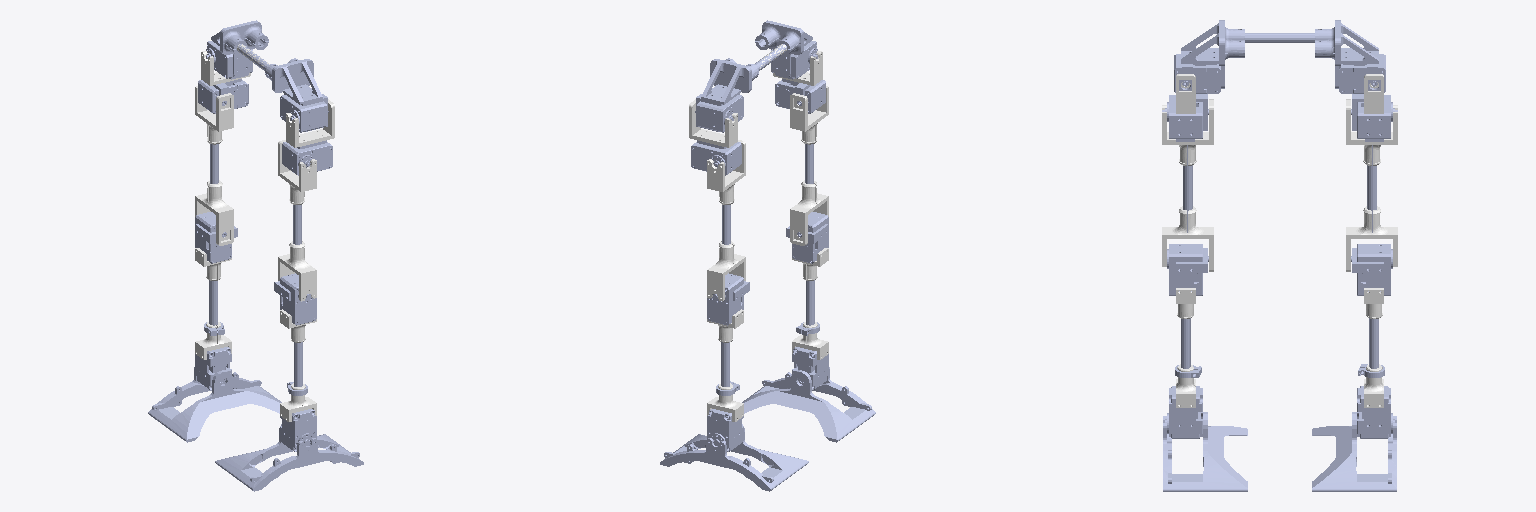
--- What the picture shows (computed from the rendered views, not written in the file) ---
3 views of the same robot in one strip: view 1: azimuth 30°, elevation 25°; view 2: azimuth 150°, elevation 25°; view 3: azimuth 270°, elevation 25° (orthographic).
Model biped_v4 with 47 links and 46 joints (9 revolute, 37 fixed), rooted at world, posed all joints at 0.
Visible links, largest first — view 1: revolute_rightfoot, revolute_leftfoot, fix_leftlegtobaselink, fix_rightlegtobaselink, fix_right_femur2_2, fix_left_femur2_2, revolute_left_femur2_1, revolute_right_femur2_1, revolute_left_knee, fix_leftfemur1_2, fix_lefttibia_1, fix_lefthip1towaist (+8 smaller); view 2: revolute_leftfoot, revolute_rightfoot, fix_leftlegtobaselink, fix_rightlegtobaselink, fix_left_femur2_2, revolute_left_femur2_1, fix_right_femur2_2, revolute_right_femur2_1, revolute_right_knee, fix_right_femer1_2, fix_righttibia_1, fix_righthip1towaist (+8 smaller); view 3: revolute_leftfoot, revolute_rightfoot, fix_leftlegtobaselink, fix_rightlegtobaselink, fix_lefttibia_1, fix_righttibia_1, revolute_left_knee, revolute_right_knee, fix_left_femur2_2, fix_right_femur2_2, fix_leftfemur1_2, fix_right_femer1_2 (+10 smaller).
Boxes of the visible links, <box> form: revolute_rightfoot: <box>148,367,281,442</box>; revolute_leftfoot: <box>215,424,363,491</box>; fix_leftlegtobaselink: <box>237,44,322,104</box>; fix_rightlegtobaselink: <box>211,20,268,77</box>; fix_right_femur2_2: <box>195,180,233,245</box>; fix_left_femur2_2: <box>278,241,316,301</box>; revolute_left_femur2_1: <box>237,44,316,204</box>; revolute_right_femur2_1: <box>195,86,233,144</box>; revolute_left_knee: <box>280,273,316,325</box>; fix_leftfemur1_2: <box>282,142,332,175</box>; fix_lefttibia_1: <box>280,409,316,451</box>; fix_lefthip1towaist: <box>280,95,326,132</box>; revolute_leftfoot: <box>742,367,875,442</box>; revolute_rightfoot: <box>660,424,808,491</box>; fix_leftlegtobaselink: <box>754,20,812,77</box>; fix_rightlegtobaselink: <box>701,58,758,104</box>; fix_left_femur2_2: <box>790,180,828,245</box>; revolute_left_femur2_1: <box>759,44,828,144</box>; fix_right_femur2_2: <box>707,241,745,301</box>; revolute_right_femur2_1: <box>707,140,745,204</box>; revolute_right_knee: <box>707,273,743,325</box>; fix_right_femer1_2: <box>691,142,741,175</box>; fix_righttibia_1: <box>707,409,743,451</box>; fix_righthip1towaist: <box>697,95,743,132</box>; revolute_leftfoot: <box>1163,412,1247,491</box>; revolute_rightfoot: <box>1312,412,1396,491</box>; fix_leftlegtobaselink: <box>1181,20,1314,88</box>; fix_rightlegtobaselink: <box>1315,20,1378,88</box>; fix_lefttibia_1: <box>1165,386,1202,438</box>; fix_righttibia_1: <box>1357,386,1394,438</box>; revolute_left_knee: <box>1167,244,1202,295</box>; revolute_right_knee: <box>1357,244,1392,295</box>; fix_left_femur2_2: <box>1162,206,1213,271</box>; fix_right_femur2_2: <box>1346,206,1397,271</box>; fix_leftfemur1_2: <box>1162,95,1202,138</box>; fix_right_femer1_2: <box>1357,95,1397,138</box>.
Bounding box of the posed robot: 0.143 × 0.2365 × 0.4831 m (x, y, z).
36 mesh visuals loaded from 46 distinct referenced files (36 binary STL); not drawn: 10 (reference not matched to a file when rendering).

robot.urdf — biped_v4:
<?xml version="1.0" ?>
<!-- =================================================================================== -->
<!-- |    This document was autogenerated by xacro from /ros2_ws/src/robot_bringup/urdf/biped_v4.urdf.xacro | -->
<!-- |    EDITING THIS FILE BY HAND IS NOT RECOMMENDED                                 | -->
<!-- =================================================================================== -->
<robot name="biped_v4">
  <!-- WORLD -->
  <link name="world"/>
  <!-- BASE LINK -->
  <joint name="base_joint" type="fixed">
    <parent link="world"/>
    <child link="base_link"/>
    <origin rpy="0 0 0" xyz="0.0 0.0 1.0"/>
  </joint>
  <link name="base_link">
    <inertial>
      <origin rpy="0 0 0" xyz="-1.1257E-18 1.209E-17 0.0040839"/>
      <mass value="0.018"/>
      <inertia ixx="8.1069E-06" ixy="3.6409E-21" ixz="-1.5116E-21" iyy="8.5785E-06" iyz="1.6877E-21" izz="1.6342E-05"/>
    </inertial>
    <visual>
      <origin rpy="0 0 0" xyz="0 0 0"/>
      <geometry>
        <mesh filename="meshes/base_link.STL"/>
      </geometry>
      <material name="">
        <color rgba="0.79216 0.81961 0.93333 1"/>
      </material>
    </visual>
    <collision>
      <origin rpy="0 0 0" xyz="0 0 0"/>
      <geometry>
        <mesh filename="meshes/base_link.STL"/>
      </geometry>
    </collision>
  </link>
  <link name="fix_leftlegtobaselink">
    <inertial>
      <origin rpy="0 0 0" xyz="3.1196E-09 -0.059316 0.0042205"/>
      <mass value="0.028"/>
      <inertia ixx="8.1588E-06" ixy="-1.3085E-13" ixz="-4.33E-11" iyy="7.7241E-06" iyz="-9.9424E-07" izz="8.6259E-06"/>
    </inertial>
    <visual>
      <origin rpy="0 0 0" xyz="0 0 0"/>
      <geometry>
        <mesh filename="meshes/fix_leftlegtobaselink.STL"/>
      </geometry>
      <material name="">
        <color rgba="0.79216 0.81961 0.93333 1"/>
      </material>
    </visual>
    <collision>
      <origin rpy="0 0 0" xyz="0 0 0"/>
      <geometry>
        <mesh filename="meshes/fix_leftlegtobaselink.STL"/>
      </geometry>
    </collision>
  </link>
  <joint name="leftlegtobaselink" type="fixed">
    <origin rpy="0 0 0" xyz="0 0 0"/>
    <parent link="base_link"/>
    <child link="fix_leftlegtobaselink"/>
    <axis xyz="0 0 0"/>
  </joint>
  <link name="fix_lefthip1towaist">
    <inertial>
      <origin rpy="0 0 0" xyz="-0.00081105 -0.082311 -0.024125"/>
      <mass value="0.08"/>
      <inertia ixx="1.0361E-05" ixy="-2.2331E-07" ixz="-2.3381E-17" iyy="6.7254E-06" iyz="-2.8598E-14" izz="1.1542E-05"/>
    </inertial>
    <visual>
      <origin rpy="0 0 0" xyz="0 0 0"/>
      <geometry>
        <mesh filename="meshes/fix_lefthip1towaist.STL"/>
      </geometry>
      <material name="">
        <color rgba="0.79216 0.81961 0.93333 1"/>
      </material>
    </visual>
    <collision>
      <origin rpy="0 0 0" xyz="0 0 0"/>
      <geometry>
        <mesh filename="meshes/fix_lefthip1towaist.STL"/>
      </geometry>
    </collision>
  </link>
  <joint name="lefthip1towaist" type="fixed">
    <origin rpy="0 0 0" xyz="0 0 0"/>
    <parent link="fix_leftlegtobaselink"/>
    <child link="fix_lefthip1towaist"/>
    <axis xyz="0 0 0"/>
  </joint>
  <link name="revolute_left_femur1_1">
    <inertial>
      <origin rpy="0 0 0" xyz="0.019235 -1.3878E-17 0.026145"/>
      <mass value="0.016"/>
      <inertia ixx="4.4847E-06" ixy="-3.2515E-22" ixz="2.5399E-07" iyy="5.4156E-06" iyz="6.6534E-22" izz="1.6499E-06"/>
    </inertial>
    <visual>
      <origin rpy="0 0 0" xyz="0 0 0"/>
      <geometry>
        <mesh filename="meshes/revolute_left_femur1_1.STL"/>
      </geometry>
      <material name="">
        <color rgba="1 1 1 1"/>
      </material>
    </visual>
    <collision>
      <origin rpy="0 0 0" xyz="0 0 0"/>
      <geometry>
        <mesh filename="meshes/revolute_left_femur1_1.STL"/>
      </geometry>
    </collision>
  </link>
  <joint name="left_hip1" type="revolute">
    <origin rpy="0 1.5707963267949 0" xyz="-0.0234 -0.09425 -0.024125"/>
    <parent link="fix_lefthip1towaist"/>
    <child link="revolute_left_femur1_1"/>
    <axis xyz="0 0 -1"/>
    <limit effort="1.5" lower="0" upper="0.3" velocity="2"/>
  </joint>
  <link name="fix_leftfemur1_2">
    <inertial>
      <origin rpy="0 0 0" xyz="0.048875 -0.00081105 0.021339"/>
      <mass value="0.08"/>
      <inertia ixx="1.1542E-05" ixy="-2.3396E-17" ixz="-2.8598E-14" iyy="1.0361E-05" iyz="-2.2331E-07" izz="6.7254E-06"/>
    </inertial>
    <visual>
      <origin rpy="0 0 0" xyz="0 0 0"/>
      <geometry>
        <mesh filename="meshes/fix_leftfemur1_2.STL"/>
      </geometry>
      <material name="">
        <color rgba="0.79216 0.81961 0.93333 1"/>
      </material>
    </visual>
    <collision>
      <origin rpy="0 0 0" xyz="0 0 0"/>
      <geometry>
        <mesh filename="meshes/fix_leftfemur1_2.STL"/>
      </geometry>
    </collision>
  </link>
  <joint name="leftfemur1_2" type="fixed">
    <origin rpy="0 0 0" xyz="0 0 0"/>
    <parent link="revolute_left_femur1_1"/>
    <child link="fix_leftfemur1_2"/>
    <axis xyz="0 0 0"/>
  </joint>
  <link name="revolute_left_femur2_1">
    <inertial>
      <origin rpy="0 0 0" xyz="-1.5434E-11 -0.024976 -0.025952"/>
      <mass value="0.016"/>
      <inertia ixx="7.0717E-06" ixy="-1.5333E-15" ixz="2.8537E-12" iyy="4.694E-06" iyz="2.9746E-07" izz="3.2637E-06"/>
    </inertial>
    <visual>
      <origin rpy="0 0 0" xyz="0 0 0"/>
      <geometry>
        <mesh filename="meshes/revolute_left_femur2_1.STL"/>
      </geometry>
      <material name="">
        <color rgba="1 1 1 1"/>
      </material>
    </visual>
    <collision>
      <origin rpy="0 0 0" xyz="0 0 0"/>
      <geometry>
        <mesh filename="meshes/revolute_left_femur2_1.STL"/>
      </geometry>
    </collision>
  </link>
  <joint name="left_hip2" type="revolute">
    <origin rpy="1.5707963267949 -1.5707963267949 0" xyz="0.048875 -0.0234 0.00939999999999994"/>
    <parent link="fix_leftfemur1_2"/>
    <child link="revolute_left_femur2_1"/>
    <axis xyz="0 0 1"/>
    <limit effort="1.5" lower="-1.732" upper="1.732" velocity="2"/>
  </joint>
  <link name="fix_left_femur2_2">
    <inertial>
      <origin rpy="0 0 0" xyz="1.5434E-11 -0.13702 -0.025952"/>
      <mass value="0.016"/>
      <inertia ixx="7.0717E-06" ixy="-1.5333E-15" ixz="-2.8537E-12" iyy="4.694E-06" iyz="-2.9746E-07" izz="3.2637E-06"/>
    </inertial>
    <visual>
      <origin rpy="0 0 0" xyz="0 0 0"/>
      <geometry>
        <mesh filename="meshes/fix_left_femur2_2.STL"/>
      </geometry>
      <material name="">
        <color rgba="1 1 1 1"/>
      </material>
    </visual>
    <collision>
      <origin rpy="0 0 0" xyz="0 0 0"/>
      <geometry>
        <mesh filename="meshes/fix_left_femur2_2.STL"/>
      </geometry>
    </collision>
  </link>
  <joint name="left_femur2_2" type="fixed">
    <origin rpy="0 0 0" xyz="0 0 0"/>
    <parent link="revolute_left_femur2_1"/>
    <child link="fix_left_femur2_2"/>
    <axis xyz="0 0 0"/>
  </joint>
  <link name="revolute_left_knee">
    <inertial>
      <origin rpy="0 0 0" xyz="6.9714E-13 -0.011939 0.022589"/>
      <mass value="0.08"/>
      <inertia ixx="1.1542E-05" ixy="2.8598E-14" ixz="-2.338E-17" iyy="6.7254E-06" iyz="2.2331E-07" izz="1.0361E-05"/>
    </inertial>
    <visual>
      <origin rpy="0 0 0" xyz="0 0 0"/>
      <geometry>
        <mesh filename="meshes/revolute_left_knee.STL"/>
      </geometry>
      <material name="">
        <color rgba="0.79216 0.81961 0.93333 1"/>
      </material>
    </visual>
    <collision>
      <origin rpy="0 0 0" xyz="0 0 0"/>
      <geometry>
        <mesh filename="meshes/revolute_left_knee.STL"/>
      </geometry>
    </collision>
  </link>
  <joint name="left_knee" type="revolute">
    <origin rpy="-3.14159265358979 0 -3.14159265358979" xyz="0 -0.162 0"/>
    <parent link="fix_left_femur2_2"/>
    <child link="revolute_left_knee"/>
    <axis xyz="0 0 1"/>
    <limit effort="1.5" lower="-2" upper="2" velocity="2"/>
  </joint>
  <link name="fix_lefttibia_1">
    <inertial>
      <origin rpy="0 0 0" xyz="-8.9841E-06 -0.16908 0.022299"/>
      <mass value="0.04"/>
      <inertia ixx="1.096E-05" ixy="-4.4082E-09" ixz="-5.2455E-09" iyy="6.3088E-06" iyz="-2.5553E-07" izz="9.8712E-06"/>
    </inertial>
    <visual>
      <origin rpy="0 0 0" xyz="0 0 0"/>
      <geometry>
        <mesh filename="meshes/fix_lefttibia_1.STL"/>
      </geometry>
      <material name="">
        <color rgba="0.79216 0.81961 0.93333 1"/>
      </material>
    </visual>
    <collision>
      <origin rpy="0 0 0" xyz="0 0 0"/>
      <geometry>
        <mesh filename="meshes/fix_lefttibia_1.STL"/>
      </geometry>
    </collision>
  </link>
  <joint name="lefttibia_1" type="fixed">
    <origin rpy="0 0 0" xyz="0 0 0"/>
    <parent link="revolute_left_knee"/>
    <child link="fix_lefttibia_1"/>
    <axis xyz="0 0 0"/>
  </joint>
  <link name="revolute_leftfoot">
    <inertial>
      <origin rpy="0 0 0" xyz="-0.028804 -1.6064E-07 0.033846"/>
      <mass value="0.05"/>
      <inertia ixx="0.00015493" ixy="-5.5007E-11" ixz="3.0716E-06" iyy="3.7481E-05" iyz="6.021E-11" izz="0.00012863"/>
    </inertial>
    <visual>
      <origin rpy="0 0 0" xyz="0 0 0"/>
      <geometry>
        <mesh filename="meshes/revolute_leftfoot.STL"/>
      </geometry>
      <material name="">
        <color rgba="0.79216 0.81961 0.93333 1"/>
      </material>
    </visual>
    <collision>
      <origin rpy="0 0 0" xyz="0 0 0"/>
      <geometry>
        <mesh filename="meshes/revolute_leftfoot.STL"/>
      </geometry>
    </collision>
  </link>
  <joint name="left_ankle" type="revolute">
    <origin rpy="0 0 1.57079632679489" xyz="0 -0.181000000000001 0.00250000000000145"/>
    <parent link="fix_lefttibia_1"/>
    <child link="revolute_leftfoot"/>
    <axis xyz="0 0 -1"/>
    <limit effort="1" lower="-1.732" upper="1.732" velocity="2"/>
  </joint>
  <link name="fix_lefttibia_2">
    <inertial>
      <origin rpy="0 0 0" xyz="3.7002E-15 -0.13991 0.0234"/>
      <mass value="0.01"/>
      <inertia ixx="8.4456E-07" ixy="-7.3769E-20" ixz="1.598E-13" iyy="1.1166E-06" iyz="9.6352E-20" izz="1.4884E-06"/>
    </inertial>
    <visual>
      <origin rpy="0 0 0" xyz="0 0 0"/>
      <geometry>
        <mesh filename="meshes/fix_lefttibia_2.STL"/>
      </geometry>
      <material name="">
        <color rgba="1 1 1 1"/>
      </material>
    </visual>
    <collision>
      <origin rpy="0 0 0" xyz="0 0 0"/>
      <geometry>
        <mesh filename="meshes/fix_lefttibia_2.STL"/>
      </geometry>
    </collision>
  </link>
  <joint name="lefttibia_2" type="fixed">
    <origin rpy="0 0 0" xyz="0 0 0"/>
    <parent link="revolute_left_knee"/>
    <child link="fix_lefttibia_2"/>
    <axis xyz="0 0 0"/>
  </joint>
  <link name="fix_lefttibia_3">
    <inertial>
      <origin rpy="0 0 0" xyz="-0.00077912 -0.1234 0.026003"/>
      <mass value="0.0008"/>
      <inertia ixx="8.7805E-08" ixy="7.215E-23" ixz="8.4902E-09" iyy="1.4099E-07" iyz="-1.6657E-22" izz="6.0985E-08"/>
    </inertial>
    <visual>
      <origin rpy="0 0 0" xyz="0 0 0"/>
      <geometry>
        <mesh filename="meshes/fix_lefttibia_3.STL"/>
      </geometry>
      <material name="">
        <color rgba="0.79216 0.81961 0.93333 1"/>
      </material>
    </visual>
    <collision>
      <origin rpy="0 0 0" xyz="0 0 0"/>
      <geometry>
        <mesh filename="meshes/fix_lefttibia_3.STL"/>
      </geometry>
    </collision>
  </link>
  <joint name="lefttibia_3" type="fixed">
    <origin rpy="0 0 0" xyz="0 0 0"/>
    <parent link="revolute_left_knee"/>
    <child link="fix_lefttibia_3"/>
    <axis xyz="0 0 0"/>
  </joint>
  <link name="fix_lefttibia_4">
    <inertial>
      <origin rpy="0 0 0" xyz="-3.6429E-17 -0.0905 0.0234"/>
      <mass value="0.007"/>
      <inertia ixx="2.3852E-06" ixy="-1.1607E-21" ixz="1.9172E-24" iyy="5.7962E-08" iyz="1.2953E-21" izz="2.3852E-06"/>
    </inertial>
    <visual>
      <origin rpy="0 0 0" xyz="0 0 0"/>
      <geometry>
        <mesh filename="meshes/fix_lefttibia_4.STL"/>
      </geometry>
      <material name="">
        <color rgba="0.79216 0.81961 0.93333 1"/>
      </material>
    </visual>
    <collision>
      <origin rpy="0 0 0" xyz="0 0 0"/>
      <geometry>
        <mesh filename="meshes/fix_lefttibia_4.STL"/>
      </geometry>
    </collision>
  </link>
  <joint name="lefttibia_4" type="fixed">
    <origin rpy="0 0 0" xyz="0 0 0"/>
    <parent link="revolute_left_knee"/>
    <child link="fix_lefttibia_4"/>
    <axis xyz="0 0 0"/>
  </joint>
  <link name="fix_lefttibia_5">
    <inertial>
      <origin rpy="0 0 0" xyz="3.8181E-15 -0.04109 0.0234"/>
      <mass value="0.01"/>
      <inertia ixx="8.4456E-07" ixy="7.5351E-20" ixz="-1.598E-13" iyy="1.1166E-06" iyz="9.6295E-20" izz="1.4884E-06"/>
    </inertial>
    <visual>
      <origin rpy="0 0 0" xyz="0 0 0"/>
      <geometry>
        <mesh filename="meshes/fix_lefttibia_5.STL"/>
      </geometry>
      <material name="">
        <color rgba="1 1 1 1"/>
      </material>
    </visual>
    <collision>
      <origin rpy="0 0 0" xyz="0 0 0"/>
      <geometry>
        <mesh filename="meshes/fix_lefttibia_5.STL"/>
      </geometry>
    </collision>
  </link>
  <joint name="lefttibia_5" type="fixed">
    <origin rpy="0 0 0" xyz="0 0 0"/>
    <parent link="revolute_left_knee"/>
    <child link="fix_lefttibia_5"/>
    <axis xyz="0 0 0"/>
  </joint>
  <link name="fix_lefttibia_6">
    <inertial>
      <origin rpy="0 0 0" xyz="1.2143E-17 -0.00179 0.035364"/>
      <mass value="0.004"/>
      <inertia ixx="4.093E-07" ixy="2.5838E-23" ixz="2.8347E-22" iyy="1.0855E-06" iyz="1.343E-09" izz="7.5439E-07"/>
    </inertial>
    <visual>
      <origin rpy="0 0 0" xyz="0 0 0"/>
      <geometry>
        <mesh filename="meshes/fix_lefttibia_6.STL"/>
      </geometry>
      <material name="">
        <color rgba="0.79216 0.81961 0.93333 1"/>
      </material>
    </visual>
    <collision>
      <origin rpy="0 0 0" xyz="0 0 0"/>
      <geometry>
        <mesh filename="meshes/fix_lefttibia_6.STL"/>
      </geometry>
    </collision>
  </link>
  <joint name="lefttibia_6" type="fixed">
    <origin rpy="0 0 0" xyz="0 0 0"/>
    <parent link="revolute_left_knee"/>
    <child link="fix_lefttibia_6"/>
    <axis xyz="0 0 0"/>
  </joint>
  <link name="fix_left_femur2_3">
    <inertial>
      <origin rpy="0 0 0" xyz="2.5327E-16 -0.081 -0.0254"/>
      <mass value="0.007"/>
      <inertia ixx="2.3852E-06" ixy="3.2772E-21" ixz="6.7208E-24" iyy="5.7962E-08" iyz="-3.8231E-22" izz="2.3852E-06"/>
    </inertial>
    <visual>
      <origin rpy="0 0 0" xyz="0 0 0"/>
      <geometry>
        <mesh filename="meshes/fix_left_femur2_3.STL"/>
      </geometry>
      <material name="">
        <color rgba="0.79216 0.81961 0.93333 1"/>
      </material>
    </visual>
    <collision>
      <origin rpy="0 0 0" xyz="0 0 0"/>
      <geometry>
        <mesh filename="meshes/fix_left_femur2_3.STL"/>
      </geometry>
    </collision>
  </link>
  <joint name="left_femur2_3" type="fixed">
    <origin rpy="0 0 0" xyz="0 0 0"/>
    <parent link="revolute_left_femur2_1"/>
    <child link="fix_left_femur2_3"/>
    <axis xyz="0 0 0"/>
  </joint>
  <link name="fix_femur1_3">
    <inertial>
      <origin rpy="0 0 0" xyz="0.048875 0.0066861 0.018792"/>
      <mass value="0.008"/>
      <inertia ixx="1.446E-06" ixy="-2.2903E-22" ixz="6.4287E-22" iyy="2.2684E-06" iyz="3.6652E-07" izz="2.2752E-06"/>
    </inertial>
    <visual>
      <origin rpy="0 0 0" xyz="0 0 0"/>
      <geometry>
        <mesh filename="meshes/fix_femur1_3.STL"/>
      </geometry>
      <material name="">
        <color rgba="0.79216 0.81961 0.93333 1"/>
      </material>
    </visual>
    <collision>
      <origin rpy="0 0 0" xyz="0 0 0"/>
      <geometry>
        <mesh filename="meshes/fix_femur1_3.STL"/>
      </geometry>
    </collision>
  </link>
  <joint name="femur1_3" type="fixed">
    <origin rpy="0 0 0" xyz="0 0 0"/>
    <parent link="revolute_left_femur1_1"/>
    <child link="fix_femur1_3"/>
    <axis xyz="0 0 0"/>
  </joint>
  <link name="fix_femur1_4">
    <inertial>
      <origin rpy="0 0 0" xyz="-2.0817E-17 -9.7145E-17 0.0494"/>
      <mass value="0.0003"/>
      <inertia ixx="7.2605E-09" ixy="-4.1175E-24" ixz="-5.5707E-25" iyy="7.2605E-09" iyz="-7.9711E-25" izz="1.3645E-08"/>
    </inertial>
    <visual>
      <origin rpy="0 0 0" xyz="0 0 0"/>
      <geometry>
        <mesh filename="meshes/fix_femur1_4.STL"/>
      </geometry>
      <material name="">
        <color rgba="0.79216 0.81961 0.93333 1"/>
      </material>
    </visual>
    <collision>
      <origin rpy="0 0 0" xyz="0 0 0"/>
      <geometry>
        <mesh filename="meshes/fix_femur1_4.STL"/>
      </geometry>
    </collision>
  </link>
  <joint name="femur1_4" type="fixed">
    <origin rpy="0 0 0" xyz="0 0 0"/>
    <parent link="revolute_left_femur1_1"/>
    <child link="fix_femur1_4"/>
    <axis xyz="0 0 0"/>
  </joint>
  <link name="fix_lefthip1motorbody">
    <inertial>
      <origin rpy="0 0 0" xyz="1.0408E-17 0.0093922 0.030086"/>
      <mass value="0.008"/>
      <inertia ixx="1.446E-06" ixy="-4.6045E-22" ixz="5.3961E-23" iyy="2.2752E-06" iyz="3.6652E-07" izz="2.2684E-06"/>
    </inertial>
    <visual>
      <origin rpy="0 0 0" xyz="0 0 0"/>
      <geometry>
        <mesh filename="meshes/fix_lefthip1motorbody.STL"/>
      </geometry>
      <material name="">
        <color rgba="0.79216 0.81961 0.93333 1"/>
      </material>
    </visual>
    <collision>
      <origin rpy="0 0 0" xyz="0 0 0"/>
      <geometry>
        <mesh filename="meshes/fix_lefthip1motorbody.STL"/>
      </geometry>
    </collision>
  </link>
  <joint name="lefthip1motorbody" type="fixed">
    <origin rpy="0 1.5707963267949 0" xyz="-0.0234 -0.09425 -0.024125"/>
    <parent link="fix_leftlegtobaselink"/>
    <child link="fix_lefthip1motorbody"/>
    <axis xyz="0 0 0"/>
  </joint>
  <link name="fix_rightlegtobaselink">
    <inertial>
      <origin rpy="0 0 0" xyz="-3.1196E-09 0.059316 0.0042205"/>
      <mass value="0.028"/>
      <inertia ixx="8.1588E-06" ixy="-1.3085E-13" ixz="4.33E-11" iyy="7.7241E-06" iyz="9.9424E-07" izz="8.6259E-06"/>
    </inertial>
    <visual>
      <origin rpy="0 0 0" xyz="0 0 0"/>
      <geometry>
        <mesh filename="meshes/fix_rightlegtobaselink.STL"/>
      </geometry>
      <material name="">
        <color rgba="0.79216 0.81961 0.93333 1"/>
      </material>
    </visual>
    <collision>
      <origin rpy="0 0 0" xyz="0 0 0"/>
      <geometry>
        <mesh filename="meshes/fix_rightlegtobaselink.STL"/>
      </geometry>
    </collision>
  </link>
  <joint name="rightlegtobaselink" type="fixed">
    <origin rpy="0 0 0" xyz="0 0 0"/>
    <parent link="base_link"/>
    <child link="fix_rightlegtobaselink"/>
    <axis xyz="0 0 0"/>
  </joint>
  <link name="fix_righthip1towaist">
    <inertial>
      <origin rpy="0 0 0" xyz="-0.00081105 0.082311 -0.024125"/>
      <mass value="0.08"/>
      <inertia ixx="1.0361E-05" ixy="2.2331E-07" ixz="2.3379E-17" iyy="6.7254E-06" iyz="-2.8598E-14" izz="1.1542E-05"/>
    </inertial>
    <visual>
      <origin rpy="0 0 0" xyz="0 0 0"/>
      <geometry>
        <mesh filename="meshes/fix_righthip1towaist.STL"/>
      </geometry>
      <material name="">
        <color rgba="0.79216 0.81961 0.93333 1"/>
      </material>
    </visual>
    <collision>
      <origin rpy="0 0 0" xyz="0 0 0"/>
      <geometry>
        <mesh filename="meshes/fix_righthip1towaist.STL"/>
      </geometry>
    </collision>
  </link>
  <joint name="righthip1towaist" type="fixed">
    <origin rpy="0 0 0" xyz="0 0 0"/>
    <parent link="fix_rightlegtobaselink"/>
    <child link="fix_righthip1towaist"/>
    <axis xyz="0 0 0"/>
  </joint>
  <link name="revolute_rightfemer1_1">
    <inertial>
      <origin rpy="0 0 0" xyz="-1.3878E-17 -0.019235 0.026145"/>
      <mass value="0.016"/>
      <inertia ixx="5.4156E-06" ixy="-6.7112E-24" ixz="4.1894E-23" iyy="4.4847E-06" iyz="-2.5399E-07" izz="1.6499E-06"/>
    </inertial>
    <visual>
      <origin rpy="0 0 0" xyz="0 0 0"/>
      <geometry>
        <mesh filename="meshes/revolute_rightfemer1_1.STL"/>
      </geometry>
      <material name="">
        <color rgba="1 1 1 1"/>
      </material>
    </visual>
    <collision>
      <origin rpy="0 0 0" xyz="0 0 0"/>
      <geometry>
        <mesh filename="meshes/revolute_rightfemer1_1.STL"/>
      </geometry>
    </collision>
  </link>
  <joint name="right_hip1" type="revolute">
    <origin rpy="1.5707963267949 0 1.5707963267949" xyz="-0.0234 0.09425 -0.024125"/>
    <parent link="fix_righthip1towaist"/>
    <child link="revolute_rightfemer1_1"/>
    <axis xyz="0 0 -1"/>
    <limit effort="1.5" lower="-0.3" upper="0" velocity="2"/>
  </joint>
  <link name="fix_right_femer1_2">
    <inertial>
      <origin rpy="0 0 0" xyz="0.00081105 -0.048875 0.021339"/>
      <mass value="0.08"/>
      <inertia ixx="1.0361E-05" ixy="2.3366E-17" ixz="2.2331E-07" iyy="1.1542E-05" iyz="-2.8598E-14" izz="6.7254E-06"/>
    </inertial>
    <visual>
      <origin rpy="0 0 0" xyz="0 0 0"/>
      <geometry>
        <mesh filename="meshes/fix_right_femer1_2.STL"/>
      </geometry>
      <material name="">
        <color rgba="0.79216 0.81961 0.93333 1"/>
      </material>
    </visual>
    <collision>
      <origin rpy="0 0 0" xyz="0 0 0"/>
      <geometry>
        <mesh filename="meshes/fix_right_femer1_2.STL"/>
      </geometry>
    </collision>
  </link>
  <joint name="rightfemer1_2" type="fixed">
    <origin rpy="0 0 0" xyz="0 0 0"/>
    <parent link="revolute_rightfemer1_1"/>
    <child link="fix_right_femer1_2"/>
    <axis xyz="0 0 0"/>
  </joint>
  <link name="revolute_right_femur2_1">
    <inertial>
      <origin rpy="0 0 0" xyz="-1.5434E-11 -0.024976 -0.025952"/>
      <mass value="0.016"/>
      <inertia ixx="7.0717E-06" ixy="-1.5333E-15" ixz="2.8537E-12" iyy="4.694E-06" iyz="2.9746E-07" izz="3.2637E-06"/>
    </inertial>
    <visual>
      <origin rpy="0 0 0" xyz="0 0 0"/>
      <geometry>
        <mesh filename="meshes/revolute_right_femur2_1.STL"/>
      </geometry>
      <material name="">
        <color rgba="1 1 1 1"/>
      </material>
    </visual>
    <collision>
      <origin rpy="0 0 0" xyz="0 0 0"/>
      <geometry>
        <mesh filename="meshes/revolute_right_femur2_1.STL"/>
      </geometry>
    </collision>
  </link>
  <joint name="right_hip2" type="revolute">
    <origin rpy="0 1.5707963267949 0" xyz="0.0233999999999999 -0.048875 0.00940000000000001"/>
    <parent link="fix_right_femer1_2"/>
    <child link="revolute_right_femur2_1"/>
    <axis xyz="0 0 -1"/>
    <limit effort="1.5" lower="-1.732" upper="1.732" velocity="2"/>
  </joint>
  <link name="fix_right_femur2_2">
    <inertial>
      <origin rpy="0 0 0" xyz="1.5435E-11 -0.13702 -0.025952"/>
      <mass value="0.016"/>
      <inertia ixx="7.0717E-06" ixy="-1.5333E-15" ixz="-2.8537E-12" iyy="4.694E-06" iyz="-2.9746E-07" izz="3.2637E-06"/>
    </inertial>
    <visual>
      <origin rpy="0 0 0" xyz="0 0 0"/>
      <geometry>
        <mesh filename="meshes/fix_right_femur2_2.STL"/>
      </geometry>
      <material name="">
        <color rgba="1 1 1 1"/>
      </material>
    </visual>
    <collision>
      <origin rpy="0 0 0" xyz="0 0 0"/>
      <geometry>
        <mesh filename="meshes/fix_right_femur2_2.STL"/>
      </geometry>
    </collision>
  </link>
  <joint name="right_femur2_2" type="fixed">
    <origin rpy="0 0 0" xyz="0 0 0"/>
    <parent link="revolute_right_femur2_1"/>
    <child link="fix_right_femur2_2"/>
    <axis xyz="0 0 0"/>
  </joint>
  <link name="revolute_right_knee">
    <inertial>
      <origin rpy="0 0 0" xyz="-6.9722E-13 -0.011939 -0.022589"/>
      <mass value="0.08"/>
      <inertia ixx="1.1542E-05" ixy="-2.8598E-14" ixz="-2.3381E-17" iyy="6.7254E-06" iyz="-2.2331E-07" izz="1.0361E-05"/>
    </inertial>
    <visual>
      <origin rpy="0 0 0" xyz="0 0 0"/>
      <geometry>
        <mesh filename="meshes/revolute_right_knee.STL"/>
      </geometry>
      <material name="">
        <color rgba="0.79216 0.81961 0.93333 1"/>
      </material>
    </visual>
    <collision>
      <origin rpy="0 0 0" xyz="0 0 0"/>
      <geometry>
        <mesh filename="meshes/revolute_right_knee.STL"/>
      </geometry>
    </collision>
  </link>
  <joint name="right_knee" type="revolute">
    <origin rpy="0 0 0" xyz="0 -0.162000000000005 0"/>
    <parent link="fix_right_femur2_2"/>
    <child link="revolute_right_knee"/>
    <axis xyz="0 0 -1"/>
    <limit effort="1.5" lower="-2" upper="2" velocity="2"/>
  </joint>
  <link name="fix_righttibia_1">
    <inertial>
      <origin rpy="0 0 0" xyz="8.9841E-06 -0.16908 -0.022299"/>
      <mass value="0.04"/>
      <inertia ixx="1.096E-05" ixy="4.4082E-09" ixz="-5.2455E-09" iyy="6.3088E-06" iyz="2.5553E-07" izz="9.8712E-06"/>
    </inertial>
    <visual>
      <origin rpy="0 0 0" xyz="0 0 0"/>
      <geometry>
        <mesh filename="meshes/fix_righttibia_1.STL"/>
      </geometry>
      <material name="">
        <color rgba="0.79216 0.81961 0.93333 1"/>
      </material>
    </visual>
    <collision>
      <origin rpy="0 0 0" xyz="0 0 0"/>
      <geometry>
        <mesh filename="meshes/fix_righttibia_1.STL"/>
      </geometry>
    </collision>
  </link>
  <joint name="righttibia_1" type="fixed">
    <origin rpy="0 0 0" xyz="0 0 0"/>
    <parent link="revolute_right_knee"/>
    <child link="fix_righttibia_1"/>
    <axis xyz="0 0 0"/>
  </joint>
  <link name="revolute_rightfoot">
    <inertial>
      <origin rpy="0 0 0" xyz="-1.6064E-07 -0.028804 -0.033846"/>
      <mass value="0.05"/>
      <inertia ixx="3.7481E-05" ixy="-5.5007E-11" ixz="-6.021E-11" iyy="0.00015493" iyz="-3.0716E-06" izz="0.00012863"/>
    </inertial>
    <visual>
      <origin rpy="0 0 0" xyz="0 0 0"/>
      <geometry>
        <mesh filename="meshes/revolute_rightfoot.STL"/>
      </geometry>
      <material name="">
        <color rgba="0.79216 0.81961 0.93333 1"/>
      </material>
    </visual>
    <collision>
      <origin rpy="0 0 0" xyz="0 0 0"/>
      <geometry>
        <mesh filename="meshes/revolute_rightfoot.STL"/>
      </geometry>
    </collision>
  </link>
  <joint name="right_ankle" type="revolute">
    <origin rpy="0 0 0" xyz="0 -0.181000000000001 -0.00250000000000579"/>
    <parent link="fix_righttibia_1"/>
    <child link="revolute_rightfoot"/>
    <axis xyz="0 0 -1"/>
    <limit effort="1" lower="-1.732" upper="1.732" velocity="2"/>
  </joint>
  <link name="fix_righttibia_2">
    <inertial>
      <origin rpy="0 0 0" xyz="-3.4573E-15 -0.13991 -0.0234"/>
      <mass value="0.01"/>
      <inertia ixx="8.4456E-07" ixy="7.5676E-20" ixz="1.598E-13" iyy="1.1166E-06" iyz="-9.714E-20" izz="1.4884E-06"/>
    </inertial>
    <visual>
      <origin rpy="0 0 0" xyz="0 0 0"/>
      <geometry>
        <mesh filename="meshes/fix_righttibia_2.STL"/>
      </geometry>
      <material name="">
        <color rgba="1 1 1 1"/>
      </material>
    </visual>
    <collision>
      <origin rpy="0 0 0" xyz="0 0 0"/>
      <geometry>
        <mesh filename="meshes/fix_righttibia_2.STL"/>
      </geometry>
    </collision>
  </link>
  <joint name="righttibia_2" type="fixed">
    <origin rpy="0 0 0" xyz="0 0 0"/>
    <parent link="revolute_right_knee"/>
    <child link="fix_righttibia_2"/>
    <axis xyz="0 0 0"/>
  </joint>
  <link name="fix_righttibia_3">
    <inertial>
      <origin rpy="0 0 0" xyz="0.00077912 -0.1234 -0.026003"/>
      <mass value="0.0008"/>
      <inertia ixx="8.7805E-08" ixy="7.4808E-23" ixz="8.4902E-09" iyy="1.4099E-07" iyz="3.841E-23" izz="6.0985E-08"/>
    </inertial>
    <visual>
      <origin rpy="0 0 0" xyz="0 0 0"/>
      <geometry>
        <mesh filename="meshes/fix_righttibia_3.STL"/>
      </geometry>
      <material name="">
        <color rgba="0.79216 0.81961 0.93333 1"/>
      </material>
    </visual>
    <collision>
      <origin rpy="0 0 0" xyz="0 0 0"/>
      <geometry>
        <mesh filename="meshes/fix_righttibia_3.STL"/>
      </geometry>
    </collision>
  </link>
  <joint name="righttibia_3" type="fixed">
    <origin rpy="0 0 0" xyz="0 0 0"/>
    <parent link="revolute_right_knee"/>
    <child link="fix_righttibia_3"/>
    <axis xyz="0 0 0"/>
  </joint>
  <link name="fix_righttibia_4">
    <inertial>
      <origin rpy="0 0 0" xyz="5.0307E-17 -0.0905 -0.0234"/>
      <mass value="0.007"/>
      <inertia ixx="2.3852E-06" ixy="-6.0832E-22" ixz="7.7548E-24" iyy="5.7962E-08" iyz="-3.4962E-21" izz="2.3852E-06"/>
    </inertial>
    <visual>
      <origin rpy="0 0 0" xyz="0 0 0"/>
      <geometry>
        <mesh filename="meshes/fix_righttibia_4.STL"/>
      </geometry>
      <material name="">
        <color rgba="0.79216 0.81961 0.93333 1"/>
      </material>
    </visual>
    <collision>
      <origin rpy="0 0 0" xyz="0 0 0"/>
      <geometry>
        <mesh filename="meshes/fix_righttibia_4.STL"/>
      </geometry>
    </collision>
  </link>
  <joint name="righttibia_4" type="fixed">
    <origin rpy="0 0 0" xyz="0 0 0"/>
    <parent link="revolute_right_knee"/>
    <child link="fix_righttibia_4"/>
    <axis xyz="0 0 0"/>
  </joint>
  <link name="fix_righttibia_5">
    <inertial>
      <origin rpy="0 0 0" xyz="-3.8893E-15 -0.04109 -0.0234"/>
      <mass value="0.01"/>
      <inertia ixx="8.4456E-07" ixy="-7.5064E-20" ixz="-1.598E-13" iyy="1.1166E-06" iyz="-9.6815E-20" izz="1.4884E-06"/>
    </inertial>
    <visual>
      <origin rpy="0 0 0" xyz="0 0 0"/>
      <geometry>
        <mesh filename="meshes/fix_righttibia_5.STL"/>
      </geometry>
      <material name="">
        <color rgba="1 1 1 1"/>
      </material>
    </visual>
    <collision>
      <origin rpy="0 0 0" xyz="0 0 0"/>
      <geometry>
        <mesh filename="meshes/fix_righttibia_5.STL"/>
      </geometry>
    </collision>
  </link>
  <joint name="righttibia_5" type="fixed">
    <origin rpy="0 0 0" xyz="0 0 0"/>
    <parent link="revolute_right_knee"/>
    <child link="fix_righttibia_5"/>
    <axis xyz="0 0 0"/>
  </joint>
  <link name="fix_righttibia_6">
    <inertial>
      <origin rpy="0 0 0" xyz="-7.8063E-17 -0.00179 -0.035364"/>
      <mass value="0.004"/>
      <inertia ixx="4.093E-07" ixy="4.9597E-23" ixz="-1.5841E-22" iyy="1.0855E-06" iyz="-1.343E-09" izz="7.5439E-07"/>
    </inertial>
    <visual>
      <origin rpy="0 0 0" xyz="0 0 0"/>
      <geometry>
        <mesh filename="meshes/fix_righttibia_6.STL"/>
      </geometry>
      <material name="">
        <color rgba="0.79216 0.81961 0.93333 1"/>
      </material>
    </visual>
    <collision>
      <origin rpy="0 0 0" xyz="0 0 0"/>
      <geometry>
        <mesh filename="meshes/fix_righttibia_6.STL"/>
      </geometry>
    </collision>
  </link>
  <joint name="righttibia_6" type="fixed">
    <origin rpy="0 0 0" xyz="0 0 0"/>
    <parent link="revolute_right_knee"/>
    <child link="fix_righttibia_6"/>
    <axis xyz="0 0 0"/>
  </joint>
  <link name="fix_right_femur2_3">
    <inertial>
      <origin rpy="0 0 0" xyz="9.1073E-16 -0.081 -0.0254"/>
      <mass value="0.007"/>
      <inertia ixx="2.3852E-06" ixy="-9.7387E-22" ixz="-1.4648E-24" iyy="5.7962E-08" iyz="7.6195E-22" izz="2.3852E-06"/>
    </inertial>
    <visual>
      <origin rpy="0 0 0" xyz="0 0 0"/>
      <geometry>
        <mesh filename="meshes/fix_right_femur2_3.STL"/>
      </geometry>
      <material name="">
        <color rgba="0.79216 0.81961 0.93333 1"/>
      </material>
    </visual>
    <collision>
      <origin rpy="0 0 0" xyz="0 0 0"/>
      <geometry>
        <mesh filename="meshes/fix_right_femur2_3.STL"/>
      </geometry>
    </collision>
  </link>
  <joint name="right_femur2_3" type="fixed">
    <origin rpy="0 0 0" xyz="0 0 0"/>
    <parent link="revolute_right_femur2_1"/>
    <child link="fix_right_femur2_3"/>
    <axis xyz="0 0 0"/>
  </joint>
  <link name="fix_rightfemer1_3">
    <inertial>
      <origin rpy="0 0 0" xyz="-0.0066861 -0.048875 0.018792"/>
      <mass value="0.008"/>
      <inertia ixx="2.2684E-06" ixy="-7.6294E-22" ixz="-3.6652E-07" iyy="1.446E-06" iyz="-5.8617E-22" izz="2.2752E-06"/>
    </inertial>
    <visual>
      <origin rpy="0 0 0" xyz="0 0 0"/>
      <geometry>
        <mesh filename="meshes/fix_rightfemer1_3.STL"/>
      </geometry>
      <material name="">
        <color rgba="0.79216 0.81961 0.93333 1"/>
      </material>
    </visual>
    <collision>
      <origin rpy="0 0 0" xyz="0 0 0"/>
      <geometry>
        <mesh filename="meshes/fix_rightfemer1_3.STL"/>
      </geometry>
    </collision>
  </link>
  <joint name="rightfemer1_3" type="fixed">
    <origin rpy="0 0 0" xyz="0 0 0"/>
    <parent link="revolute_rightfemer1_1"/>
    <child link="fix_rightfemer1_3"/>
    <axis xyz="0 0 0"/>
  </joint>
  <link name="fix_rightfemer1_4">
    <inertial>
      <origin rpy="0 0 0" xyz="-4.1633E-17 4.1633E-17 0.0494"/>
      <mass value="0.0003"/>
      <inertia ixx="7.2605E-09" ixy="1.6111E-24" ixz="-2.095E-25" iyy="7.2605E-09" iyz="-5.894E-25" izz="1.3645E-08"/>
    </inertial>
    <visual>
      <origin rpy="0 0 0" xyz="0 0 0"/>
      <geometry>
        <mesh filename="meshes/fix_rightfemer1_4.STL"/>
      </geometry>
      <material name="">
        <color rgba="0.79216 0.81961 0.93333 1"/>
      </material>
    </visual>
    <collision>
      <origin rpy="0 0 0" xyz="0 0 0"/>
      <geometry>
        <mesh filename="meshes/fix_rightfemer1_4.STL"/>
      </geometry>
    </collision>
  </link>
  <joint name="rightfemer1_4" type="fixed">
    <origin rpy="0 0 0" xyz="0 0 0"/>
    <parent link="revolute_rightfemer1_1"/>
    <child link="fix_rightfemer1_4"/>
    <axis xyz="0 0 0"/>
  </joint>
  <link name="fix_right_hip1motorbody">
    <inertial>
      <origin rpy="0 0 0" xyz="0.0066861 0.084858 -0.024125"/>
      <mass value="0.008"/>
      <inertia ixx="2.2684E-06" ixy="-3.6652E-07" ixz="4.9767E-23" iyy="2.2752E-06" iyz="-4.3615E-22" izz="1.446E-06"/>
    </inertial>
    <visual>
      <origin rpy="0 0 0" xyz="0 0 0"/>
      <geometry>
        <mesh filename="meshes/fix_right_hip1motorbody.STL"/>
      </geometry>
      <material name="">
        <color rgba="0.79216 0.81961 0.93333 1"/>
      </material>
    </visual>
    <collision>
      <origin rpy="0 0 0" xyz="0 0 0"/>
      <geometry>
        <mesh filename="meshes/fix_right_hip1motorbody.STL"/>
      </geometry>
    </collision>
  </link>
  <joint name="right_hip1motorbody" type="fixed">
    <origin rpy="0 0 0" xyz="0 0 0"/>
    <parent link="fix_rightlegtobaselink"/>
    <child link="fix_right_hip1motorbody"/>
    <axis xyz="0 0 0"/>
  </joint>
  <link name="fix_torsotobaselink1">
    <inertial>
      <origin rpy="0 0 0" xyz="-0.0012031 1.5888E-18 0.024015"/>
      <mass value="0.02"/>
      <inertia ixx="5.3699E-06" ixy="-2.5375E-21" ixz="4.9395E-07" iyy="1.0212E-05" iyz="6.478E-21" izz="1.098E-05"/>
    </inertial>
    <visual>
      <origin rpy="0 0 0" xyz="0 0 0"/>
      <geometry>
        <mesh filename="meshes/fix_torsotobaselink1.STL"/>
      </geometry>
      <material name="">
        <color rgba="0.79216 0.81961 0.93333 1"/>
      </material>
    </visual>
    <collision>
      <origin rpy="0 0 0" xyz="0 0 0"/>
      <geometry>
        <mesh filename="meshes/fix_torsotobaselink1.STL"/>
      </geometry>
    </collision>
  </link>
  <joint name="torsotobaselink1" type="fixed">
    <origin rpy="0 0 0" xyz="0 0 0"/>
    <parent link="base_link"/>
    <child link="fix_torsotobaselink1"/>
    <axis xyz="0 0 0"/>
  </joint>
  <link name="servo1">
    <inertial>
      <origin rpy="0 0 0" xyz="-7.7571E-11 0.015029 -0.029118"/>
      <mass value="0.165"/>
      <inertia ixx="3.834E-05" ixy="4.775E-14" ixz="-8.2973E-14" iyy="2.1548E-05" iyz="1.6188E-07" izz="3.1728E-05"/>
    </inertial>
    <visual>
      <origin rpy="0 0 0" xyz="0 0 0"/>
      <geometry>
        <mesh filename="meshes/servo1.STL"/>
      </geometry>
      <material name="">
        <color rgba="0.79216 0.81961 0.93333 1"/>
      </material>
    </visual>
    <collision>
      <origin rpy="0 0 0" xyz="0 0 0"/>
      <geometry>
        <mesh filename="meshes/servo1.STL"/>
      </geometry>
    </collision>
  </link>
  <joint name="torso" type="revolute">
    <origin rpy="1.57079632679489 0 1.5707963267949" xyz="0.0298000000000001 0 0.0422500000000002"/>
    <parent link="fix_torsotobaselink1"/>
    <child link="servo1"/>
    <axis xyz="0 0 1"/>
    <limit effort="1.8" lower="-1.0" upper="1.0" velocity="1.8"/>
  </joint>
  <link name="fix_torsolink1">
    <inertial>
      <origin rpy="0 0 0" xyz="-0.00015 0.049553 -0.0298"/>
      <mass value="0.01"/>
      <inertia ixx="1.0537E-06" ixy="1.3742E-22" ixz="8.0242E-15" iyy="1.857E-06" iyz="-1.3041E-22" izz="2.1198E-06"/>
    </inertial>
    <visual>
      <origin rpy="0 0 0" xyz="0 0 0"/>
      <geometry>
        <mesh filename="meshes/fix_torsolink1.STL"/>
      </geometry>
      <material name="">
        <color rgba="1 1 1 1"/>
      </material>
    </visual>
    <collision>
      <origin rpy="0 0 0" xyz="0 0 0"/>
      <geometry>
        <mesh filename="meshes/fix_torsolink1.STL"/>
      </geometry>
    </collision>
  </link>
  <joint name="torsolink1" type="fixed">
    <origin rpy="0 0 0" xyz="0 0 0"/>
    <parent link="servo1"/>
    <child link="fix_torsolink1"/>
    <axis xyz="0 0 0"/>
  </joint>
  <link name="fix_torsolink2">
    <inertial>
      <origin rpy="0 0 0" xyz="-0.00015 0.20875 -0.0298"/>
      <mass value="0.015"/>
      <inertia ixx="5.848E-05" ixy="-5.1101E-21" ixz="-9.0783E-24" iyy="1.4923E-07" iyz="-1.4156E-19" izz="5.848E-05"/>
    </inertial>
    <visual>
      <origin rpy="0 0 0" xyz="0 0 0"/>
      <geometry>
        <mesh filename="meshes/fix_torsolink2.STL"/>
      </geometry>
      <material name="">
        <color rgba="0.79216 0.81961 0.93333 1"/>
      </material>
    </visual>
    <collision>
      <origin rpy="0 0 0" xyz="0 0 0"/>
      <geometry>
        <mesh filename="meshes/fix_torsolink2.STL"/>
      </geometry>
    </collision>
  </link>
  <joint name="torsolink2" type="fixed">
    <origin rpy="0 0 0" xyz="0 0 0"/>
    <parent link="servo1"/>
    <child link="fix_torsolink2"/>
    <axis xyz="0 0 0"/>
  </joint>
  <link name="fix_torsolink3">
    <inertial>
      <origin rpy="0 0 0" xyz="-0.00015 0.36452 -0.0298"/>
      <mass value="0.006"/>
      <inertia ixx="6.0919E-07" ixy="1.386E-22" ixz="1.2785E-17" iyy="5.457E-07" iyz="-2.4494E-22" izz="7.0719E-07"/>
    </inertial>
    <visual>
      <origin rpy="0 0 0" xyz="0 0 0"/>
      <geometry>
        <mesh filename="meshes/fix_torsolink3.STL"/>
      </geometry>
      <material name="">
        <color rgba="1 1 1 1"/>
      </material>
    </visual>
    <collision>
      <origin rpy="0 0 0" xyz="0 0 0"/>
      <geometry>
        <mesh filename="meshes/fix_torsolink3.STL"/>
      </geometry>
    </collision>
  </link>
  <joint name="torsolink3" type="fixed">
    <origin rpy="0 0 0" xyz="0 0 0"/>
    <parent link="servo1"/>
    <child link="fix_torsolink3"/>
    <axis xyz="0 0 0"/>
  </joint>
  <link name="fix_torsoweight">
    <inertial>
      <origin rpy="0 0 0" xyz="-0.00015 0.37425 -0.0298"/>
      <mass value="0.22"/>
      <inertia ixx="2.2936E-05" ixy="-1.0029E-21" ixz="3.3123E-22" iyy="4.5838E-05" iyz="5.2146E-20" izz="2.2933E-05"/>
    </inertial>
    <visual>
      <origin rpy="0 0 0" xyz="0 0 0"/>
      <geometry>
        <mesh filename="meshes/fix_torsoweight.STL"/>
      </geometry>
      <material name="">
        <color rgba="0.79216 0.81961 0.93333 1"/>
      </material>
    </visual>
    <collision>
      <origin rpy="0 0 0" xyz="0 0 0"/>
      <geometry>
        <mesh filename="meshes/fix_torsoweight.STL"/>
      </geometry>
    </collision>
  </link>
  <joint name="torsoweight" type="fixed">
    <origin rpy="0 0 0" xyz="0 0 0"/>
    <parent link="servo1"/>
    <child link="fix_torsoweight"/>
    <axis xyz="0 0 0"/>
  </joint>
  <link name="fix_torsotobaselink2">
    <inertial>
      <origin rpy="0 0 0" xyz="-2.3201E-18 7.7378E-18 0.01875"/>
      <mass value="0.008"/>
      <inertia ixx="2.331E-06" ixy="-1.593E-21" ixz="-5.911E-23" iyy="1.9323E-06" iyz="5.3201E-22" izz="4.2505E-06"/>
    </inertial>
    <visual>
      <origin rpy="0 0 0" xyz="0 0 0"/>
      <geometry>
        <mesh filename="meshes/fix_torsotobaselink2.STL"/>
      </geometry>
      <material name="">
        <color rgba="0.79216 0.81961 0.93333 1"/>
      </material>
    </visual>
    <collision>
      <origin rpy="0 0 0" xyz="0 0 0"/>
      <geometry>
        <mesh filename="meshes/fix_torsotobaselink2.STL"/>
      </geometry>
    </collision>
  </link>
  <joint name="torsotobaselink" type="fixed">
    <origin rpy="0 0 0" xyz="0 0 0"/>
    <parent link="base_link"/>
    <child link="fix_torsotobaselink2"/>
    <axis xyz="0 0 0"/>
  </joint>
  <link name="fix_cfpipe1tobaselink">
    <inertial>
      <origin rpy="0 0 0" xyz="0.01375 2.1582E-18 0.00925"/>
      <mass value="0.007"/>
      <inertia ixx="2.4432E-06" ixy="6.3549E-38" ixz="0" iyy="5.162E-08" iyz="5.5801E-22" izz="2.4432E-06"/>
    </inertial>
    <visual>
      <origin rpy="0 0 0" xyz="0 0 0"/>
      <geometry>
        <mesh filename="meshes/fix_cfpipe1tobaselink.STL"/>
      </geometry>
      <material name="">
        <color rgba="1 1 1 1"/>
      </material>
    </visual>
    <collision>
      <origin rpy="0 0 0" xyz="0 0 0"/>
      <geometry>
        <mesh filename="meshes/fix_cfpipe1tobaselink.STL"/>
      </geometry>
    </collision>
  </link>
  <joint name="cfpipe1tobaselink" type="fixed">
    <origin rpy="0 0 0" xyz="0 0 0"/>
    <parent link="base_link"/>
    <child link="fix_cfpipe1tobaselink"/>
    <axis xyz="0 1 0"/>
  </joint>
  <link name="fix_cfpipe2tobaselink">
    <inertial>
      <origin rpy="0 0 0" xyz="-0.01375 2.1582E-18 0.00925"/>
      <mass value="0.007"/>
      <inertia ixx="2.4432E-06" ixy="6.3549E-38" ixz="0" iyy="5.162E-08" iyz="5.5801E-22" izz="2.4432E-06"/>
    </inertial>
    <visual>
      <origin rpy="0 0 0" xyz="0 0 0"/>
      <geometry>
        <mesh filename="meshes/fix_cfpipe2tobaselink.STL"/>
      </geometry>
      <material name="">
        <color rgba="1 1 1 1"/>
      </material>
    </visual>
    <collision>
      <origin rpy="0 0 0" xyz="0 0 0"/>
      <geometry>
        <mesh filename="meshes/fix_cfpipe2tobaselink.STL"/>
      </geometry>
    </collision>
  </link>
  <joint name="cfpipe2tobaselink" type="fixed">
    <origin rpy="0 0 0" xyz="0 0 0"/>
    <parent link="base_link"/>
    <child link="fix_cfpipe2tobaselink"/>
    <axis xyz="0 0 0"/>
  </joint>
  <ros2_control name="leg" type="system">
    <hardware>
      <plugin>dynamixel_hardware/DynamixelHardware</plugin>
      <param name="usb_port">/dev/ttyUSB0</param>
      <param name="baud_rate">57600</param>
      <param name="control_mode">position</param>
    </hardware>
    <joint name="right_hip1">
      <param name="id">1</param>
      <command_interface name="position"/>
      <!-- <command_interface name="velocity"/> -->
      <state_interface name="position"/>
      <state_interface name="velocity"/>
    </joint>
    <joint name="right_hip2">
      <param name="id">2</param>
      <command_interface name="position"/>
      <!-- <command_interface name="velocity"/> -->
      <state_interface name="position"/>
      <state_interface name="velocity"/>
    </joint>
    <joint name="right_knee">
      <param name="id">3</param>
      <command_interface name="position"/>
      <!-- <command_interface name="velocity"/> -->
      <state_interface name="position"/>
      <state_interface name="velocity"/>
    </joint>
    <joint name="left_hip1">
      <param name="id">5</param>
      <command_interface name="position"/>
      <!-- <command_interface name="velocity"/> -->
      <state_interface name="position"/>
      <state_interface name="velocity"/>
    </joint>
    <joint name="left_hip2">
      <param name="id">6</param>
      <command_interface name="position"/>
      <!-- <command_interface name="velocity"/> -->
      <state_interface name="position"/>
      <state_interface name="velocity"/>
    </joint>
    <joint name="left_knee">
      <param name="id">7</param>
      <command_interface name="position"/>
      <!-- <command_interface name="velocity"/> -->
      <state_interface name="position"/>
      <state_interface name="velocity"/>
    </joint>
    <joint name="right_ankle">
      <param name="id">4</param>
      <command_interface name="position"/>
      <!-- <command_interface name="velocity"/> -->
      <state_interface name="position"/>
      <state_interface name="velocity"/>
    </joint>
    <joint name="left_ankle">
      <param name="id">8</param>
      <command_interface name="position"/>
      <!-- <command_interface name="velocity"/> -->
      <state_interface name="position"/>
      <state_interface name="velocity"/>
    </joint>
    <joint name="torso">
      <param name="id">9</param>
      <command_interface name="position"/>
      <!-- <command_interface name="velocity"/> -->
      <state_interface name="position"/>
      <state_interface name="velocity"/>
    </joint>
  </ros2_control>
</robot>
